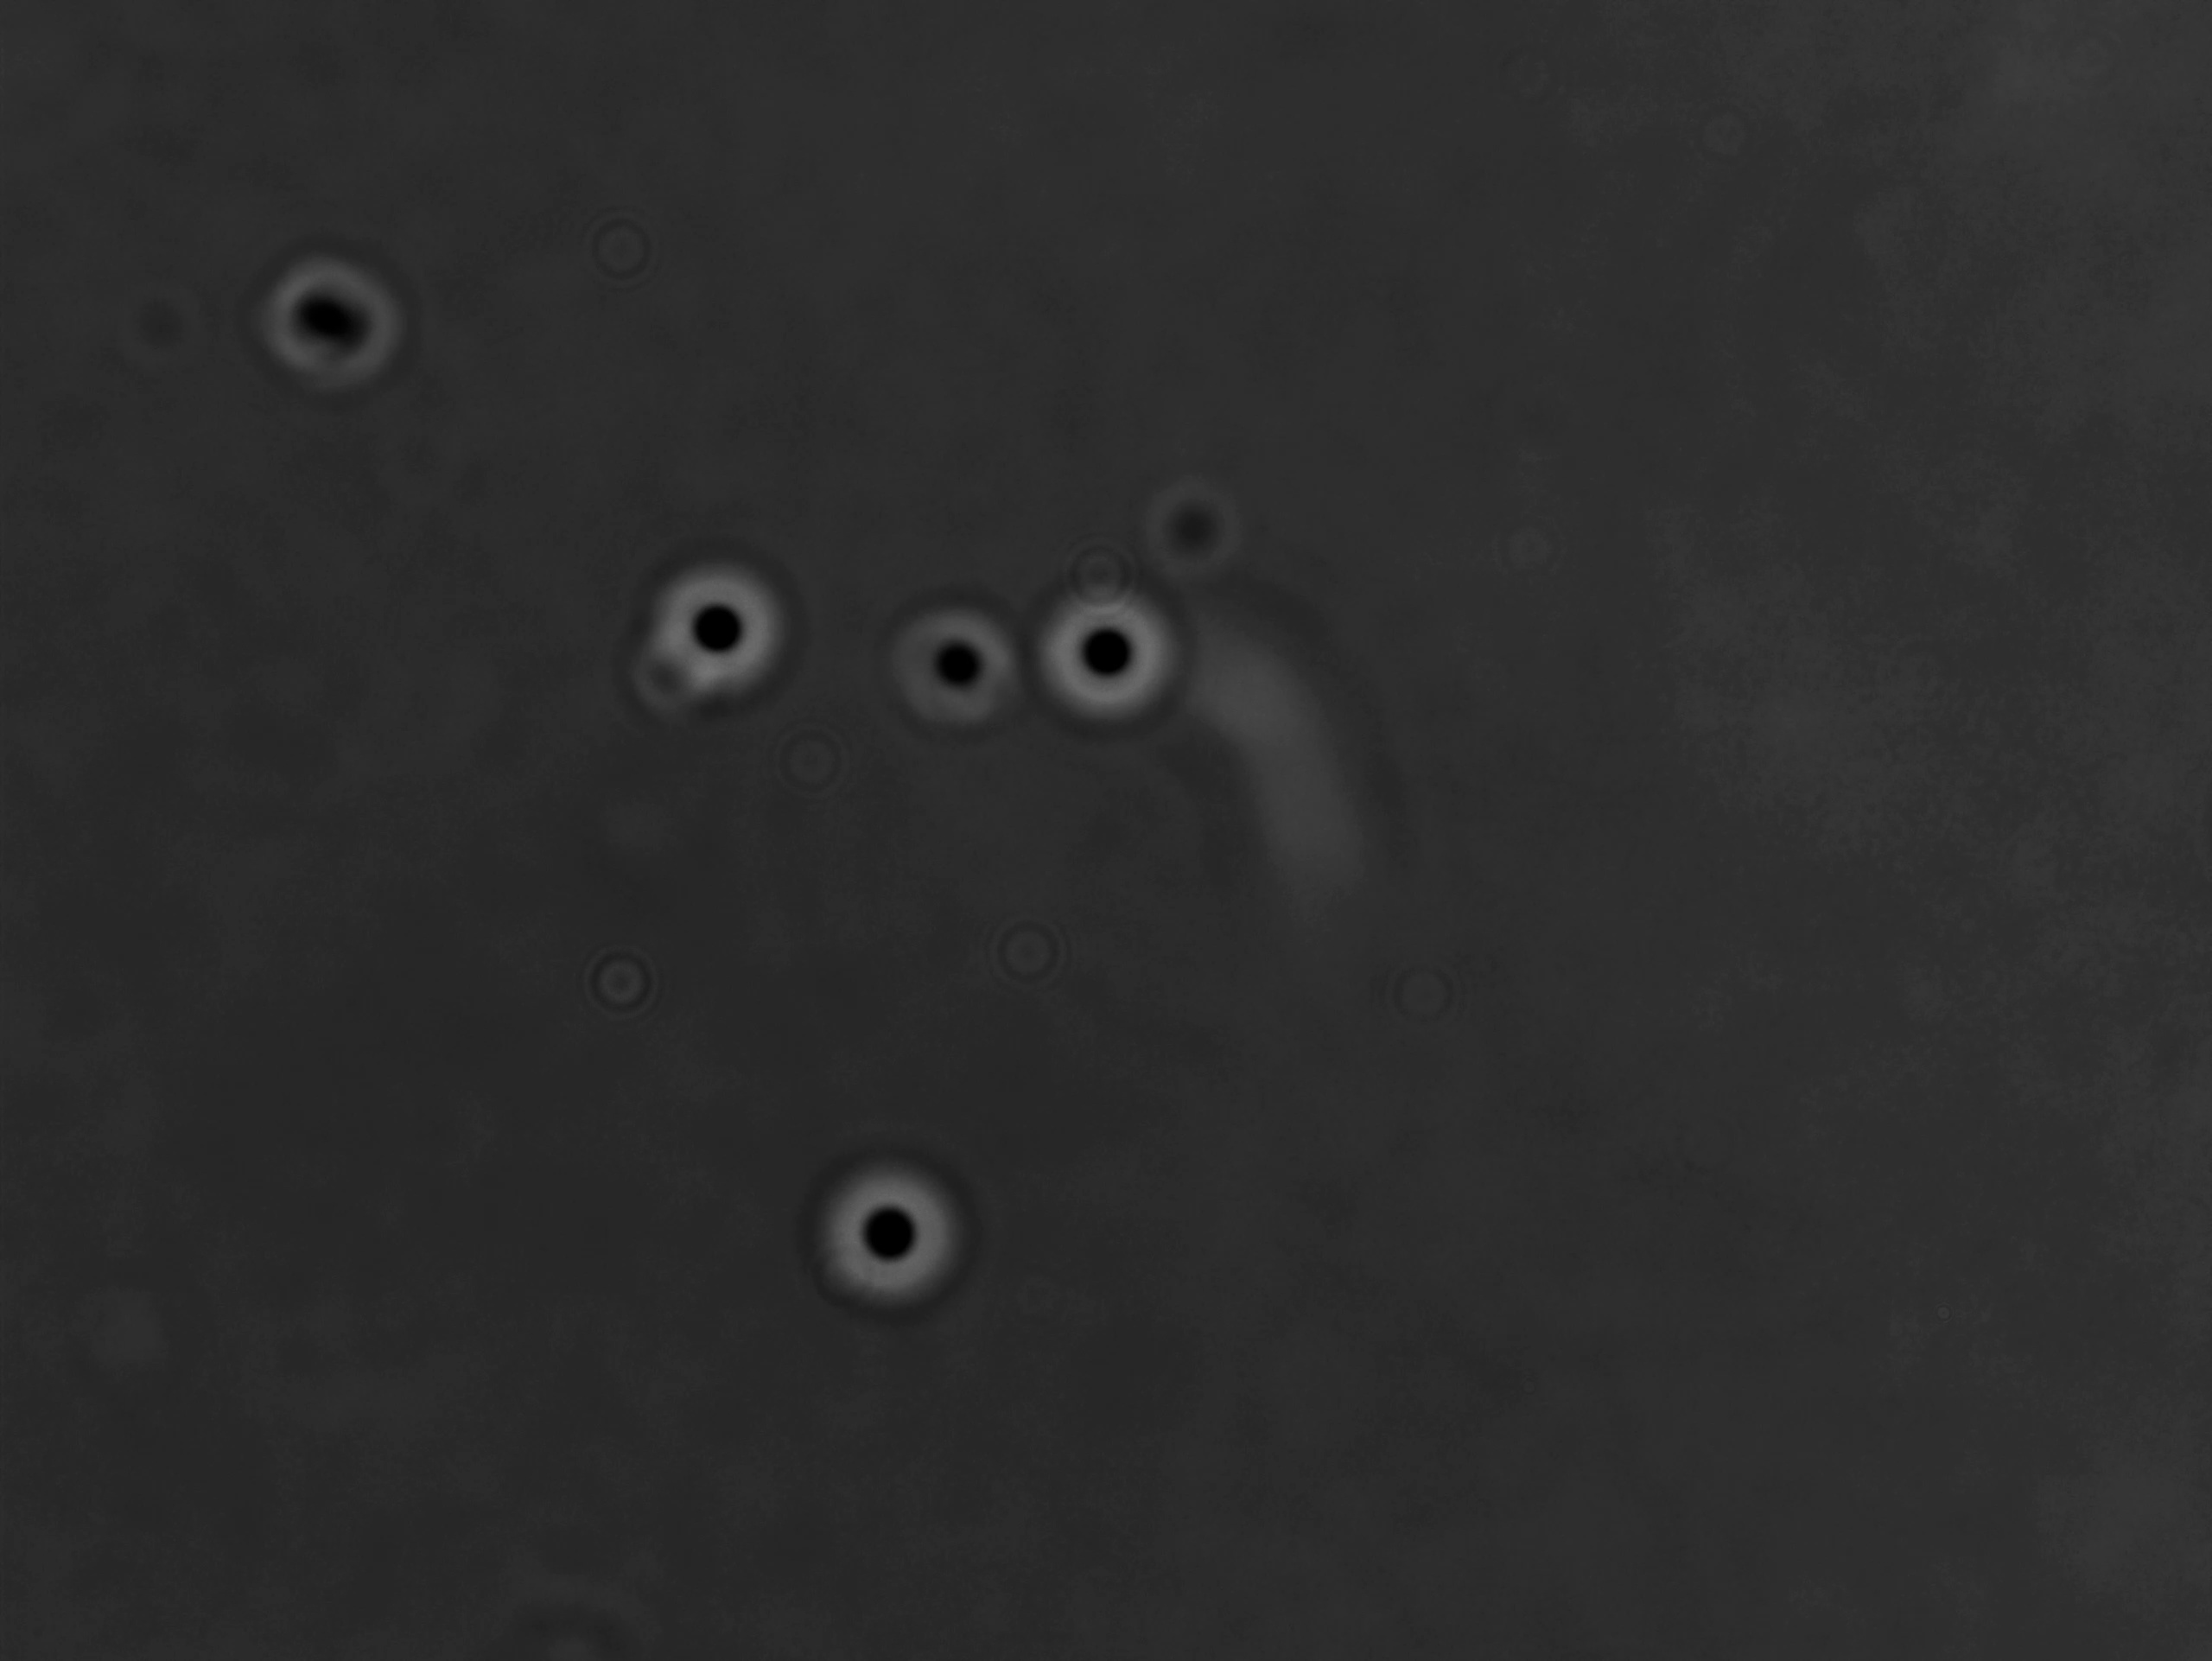depth:-40: (811, 1150, 982, 1317), (1041, 583, 1202, 745), (640, 551, 801, 710)
